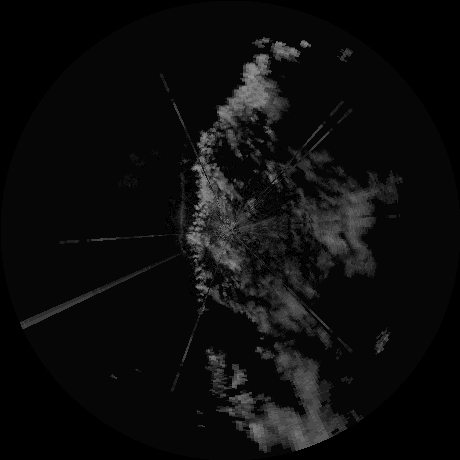frontgust: (173, 161, 189, 256)
